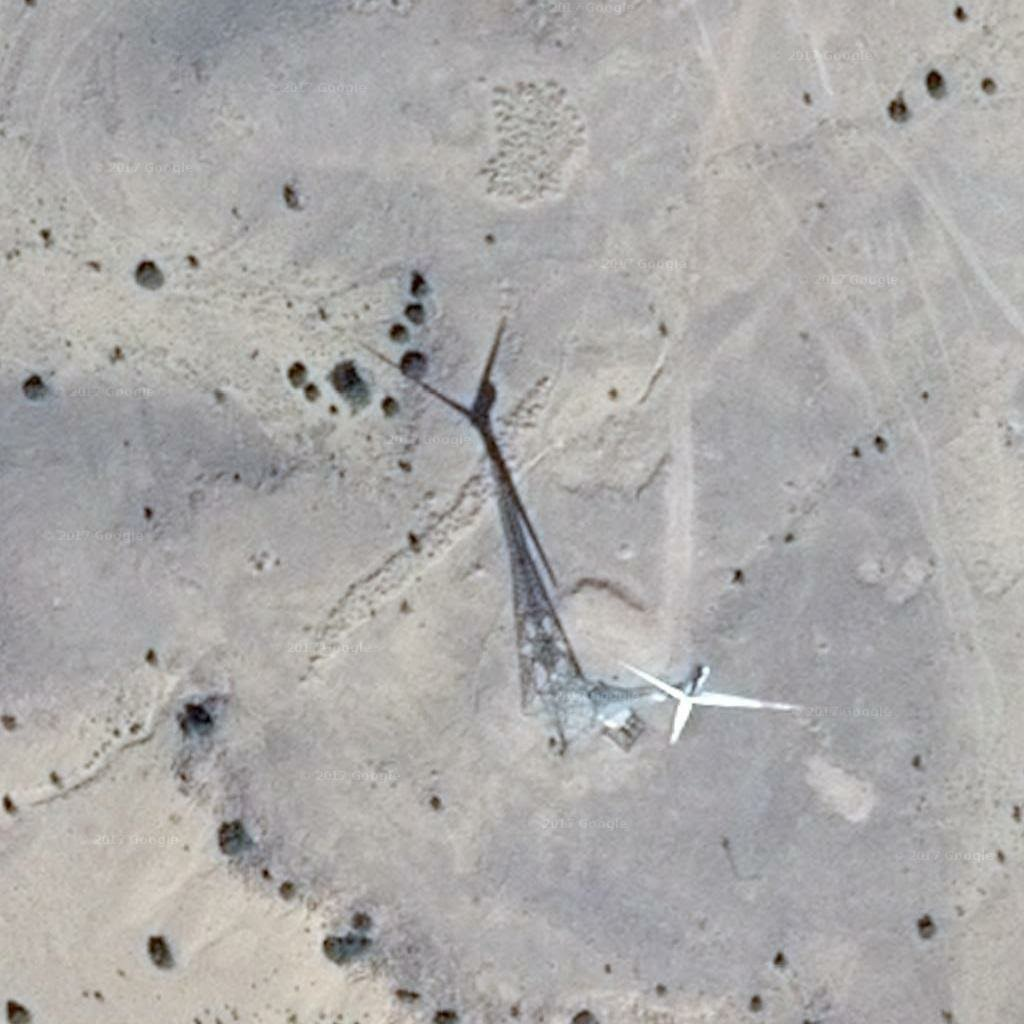Windmill: (359, 334, 588, 692)
